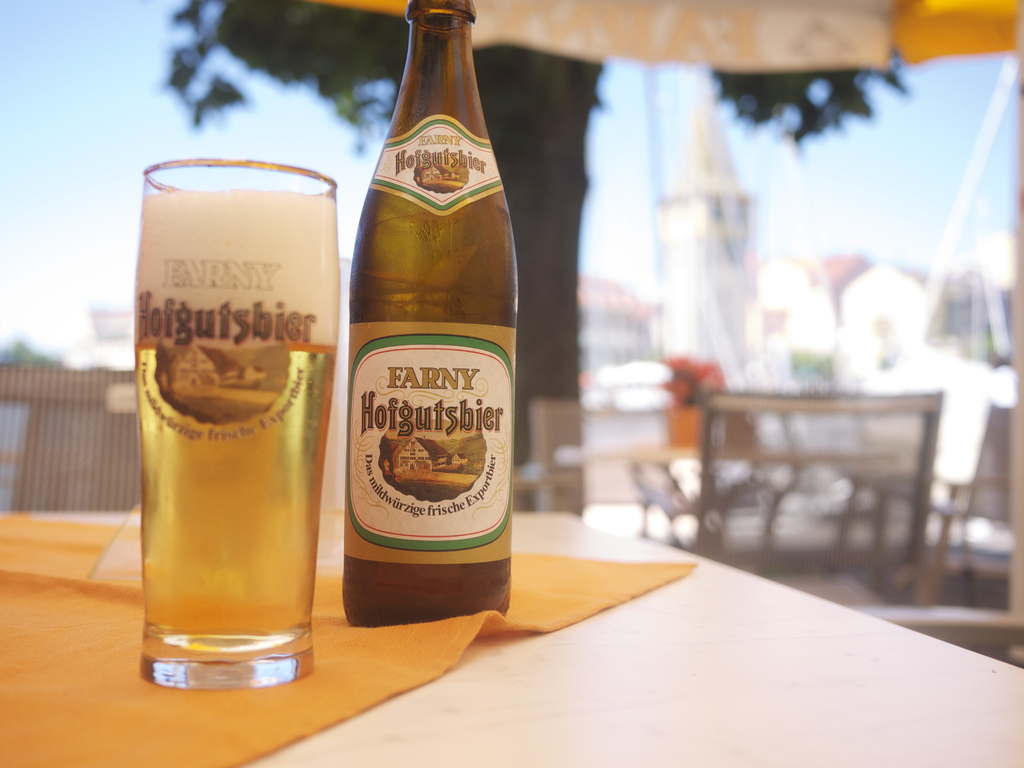Beer: (130, 186, 334, 652)
